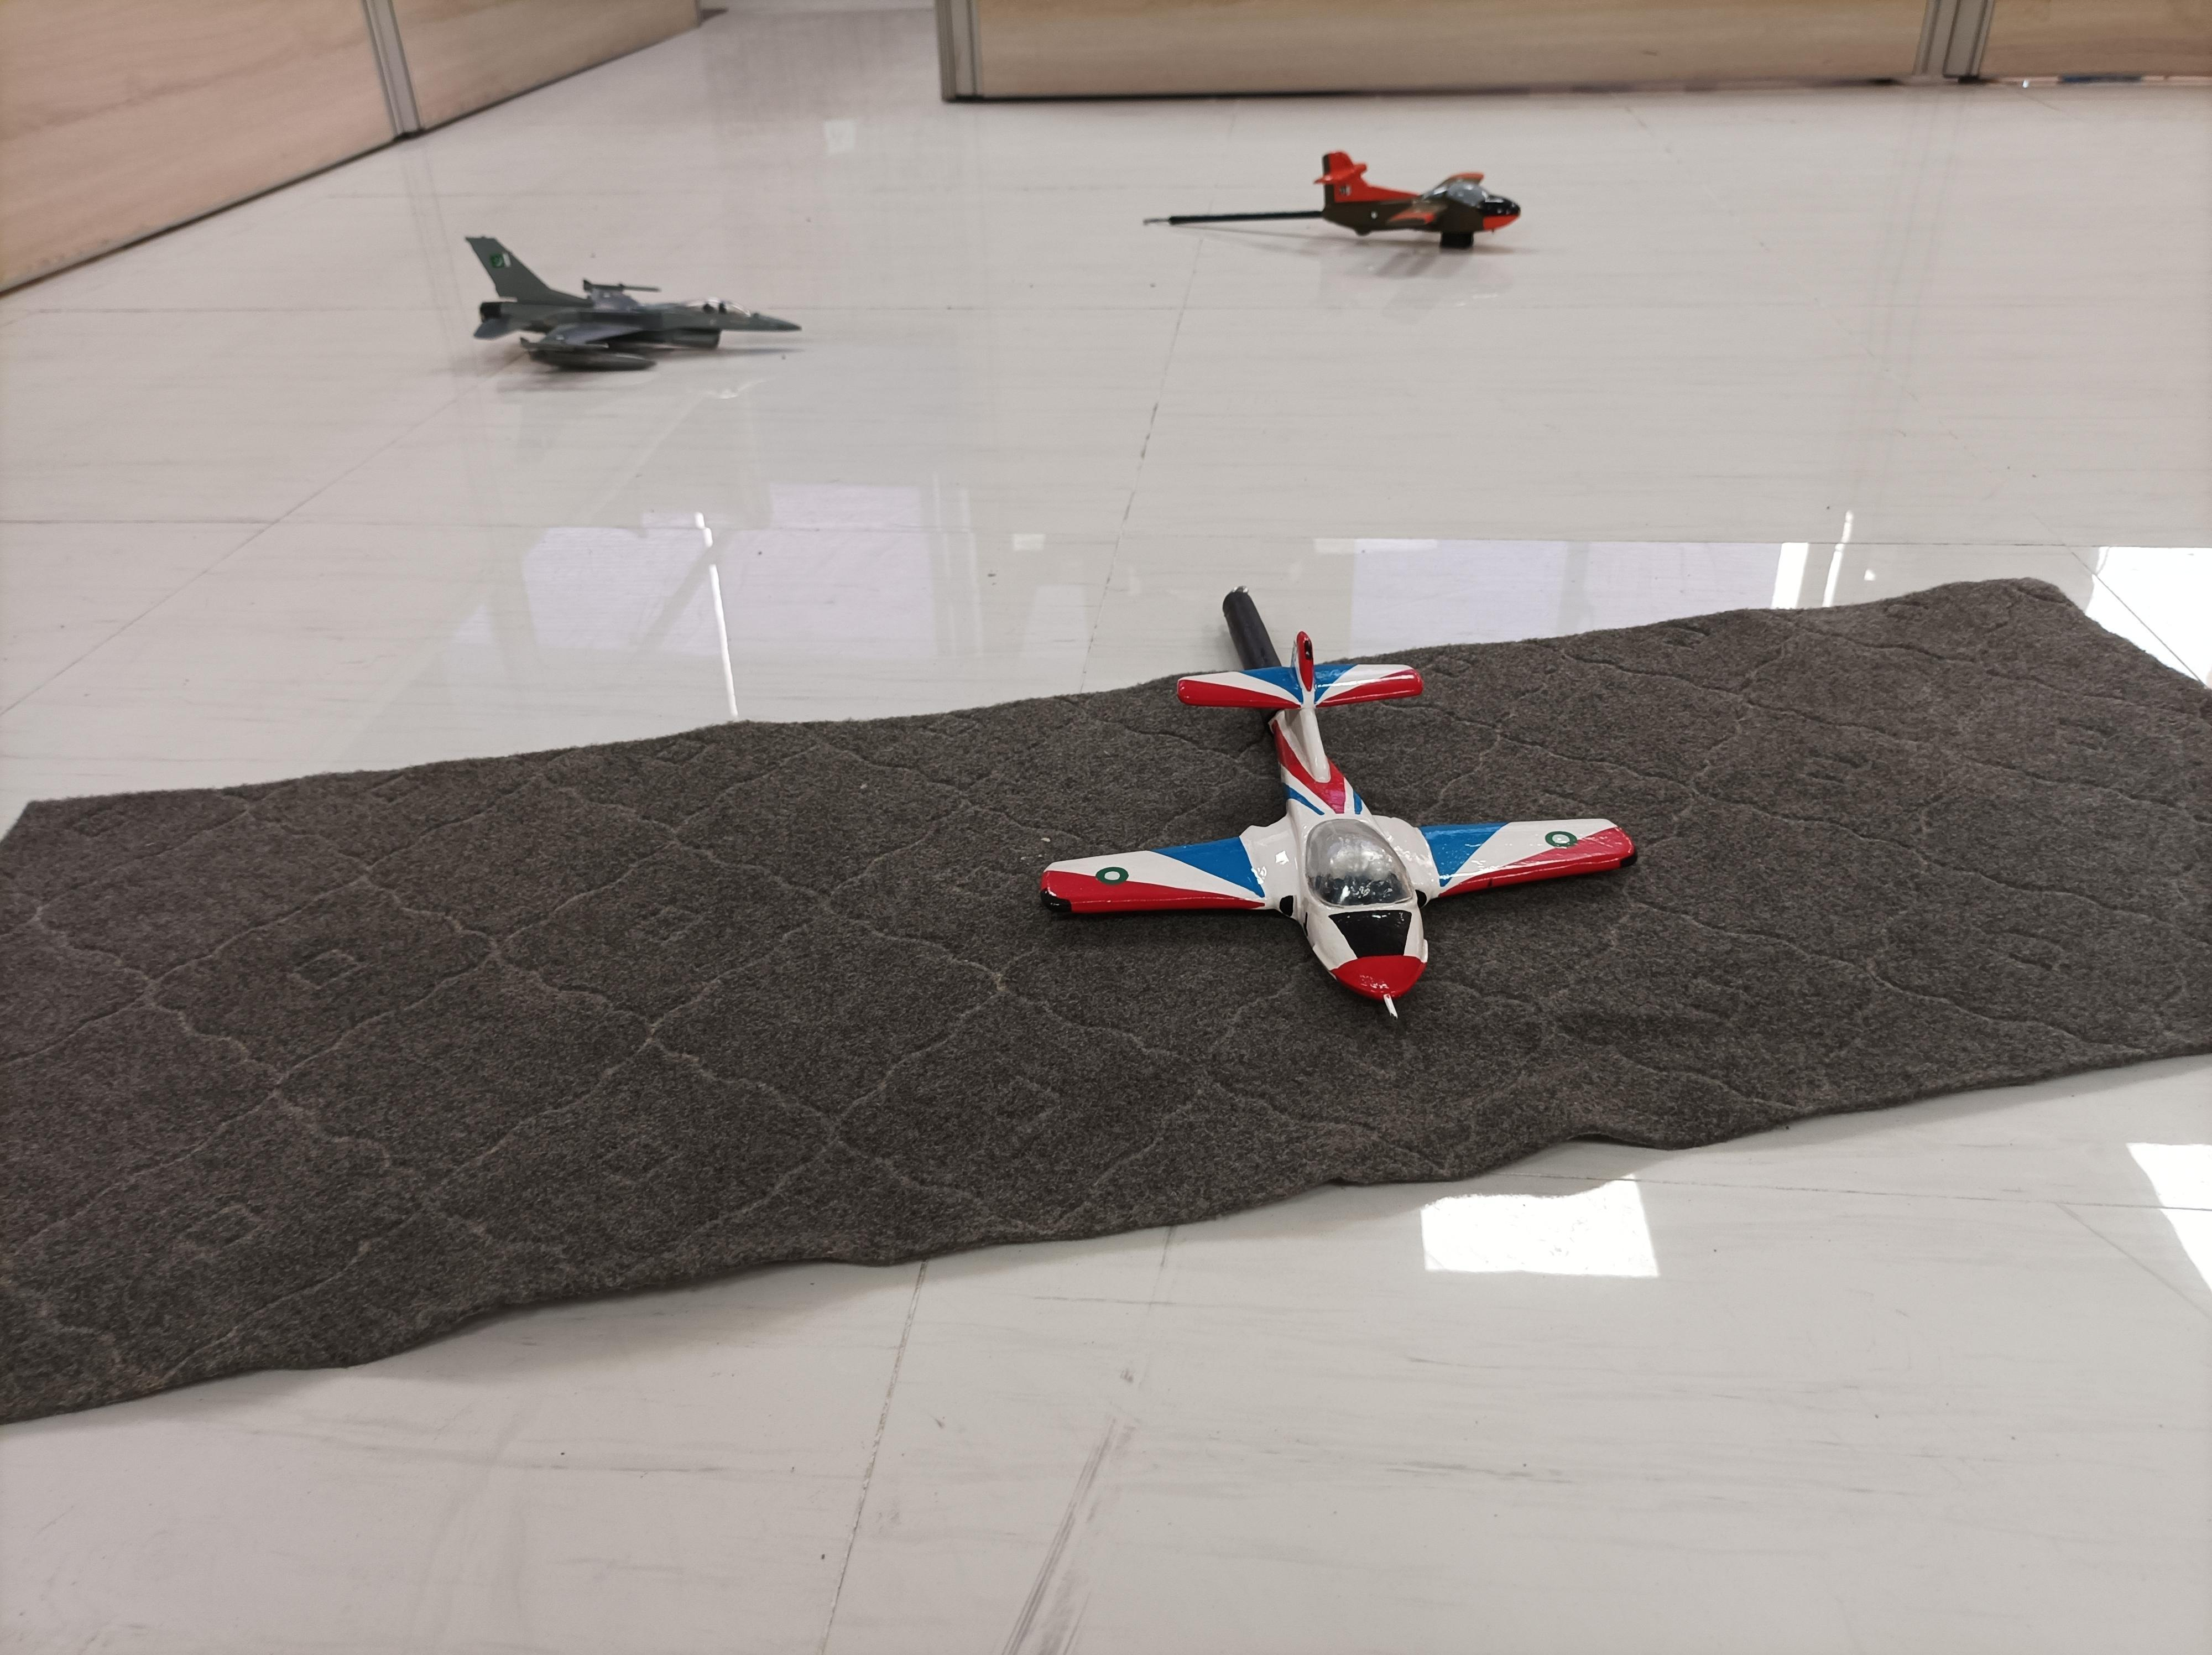Airplane: (1025, 608, 1659, 1053), (440, 196, 815, 412), (1315, 130, 1546, 290)
